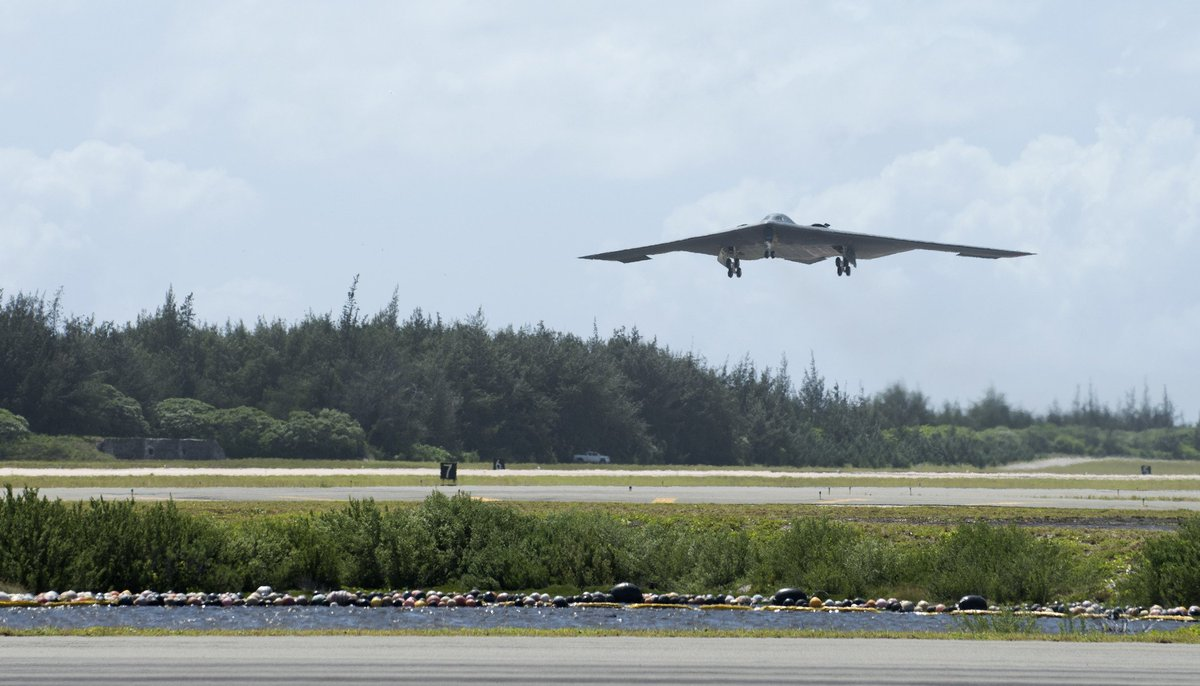B2: (576, 211, 1037, 278)
